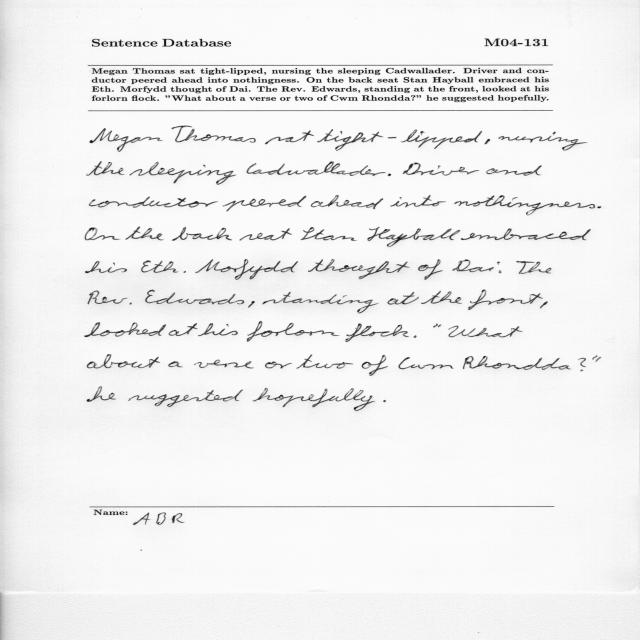word: (317, 129, 482, 151), (253, 388, 376, 411), (454, 196, 595, 216), (263, 292, 379, 314), (130, 162, 237, 185), (196, 259, 299, 280), (463, 356, 597, 372), (128, 389, 243, 407), (308, 259, 410, 279), (247, 162, 386, 176), (247, 321, 339, 342), (368, 227, 461, 247), (90, 128, 163, 152), (499, 132, 588, 151), (461, 229, 591, 241), (468, 290, 543, 310), (145, 290, 244, 305), (171, 126, 256, 143), (89, 197, 218, 208), (223, 196, 307, 211), (346, 323, 410, 342), (85, 322, 166, 337), (88, 355, 161, 369), (311, 195, 383, 209), (403, 163, 479, 176), (297, 354, 354, 369), (172, 227, 232, 241), (449, 326, 523, 337), (301, 227, 357, 241), (390, 195, 446, 208), (239, 228, 292, 241), (265, 131, 314, 145), (399, 357, 454, 369), (486, 165, 542, 176), (88, 291, 132, 305), (452, 260, 500, 272), (362, 355, 388, 376), (194, 360, 254, 369), (421, 291, 462, 304), (418, 259, 443, 280), (198, 323, 238, 336), (87, 162, 124, 176), (85, 261, 127, 273), (126, 227, 164, 240), (141, 260, 179, 273), (85, 228, 121, 241), (516, 261, 552, 274), (87, 386, 116, 402), (388, 292, 419, 305), (169, 323, 198, 336), (265, 362, 292, 369), (169, 362, 183, 368), (540, 302, 548, 309), (248, 301, 255, 308), (433, 324, 441, 328), (485, 139, 491, 144), (596, 357, 601, 362), (499, 271, 502, 274), (414, 335, 417, 338), (598, 207, 602, 209), (388, 174, 391, 176), (183, 271, 186, 273), (383, 400, 386, 402)
